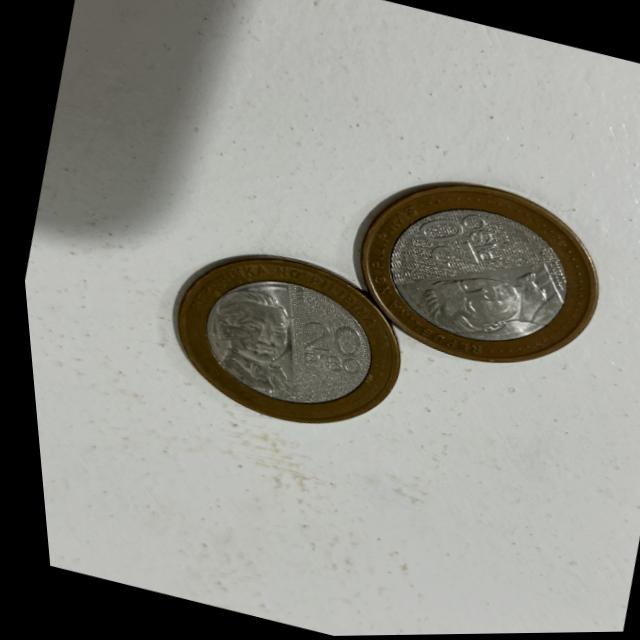20_New_Front: (398, 201, 505, 286), (279, 307, 369, 392)
